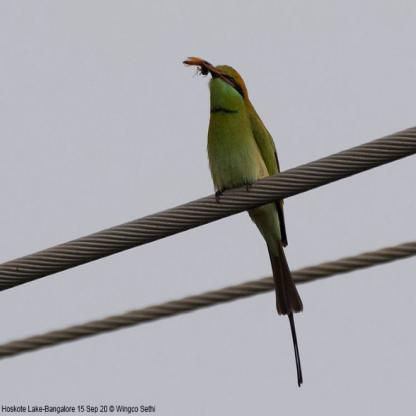Burung: (182, 54, 303, 384)
